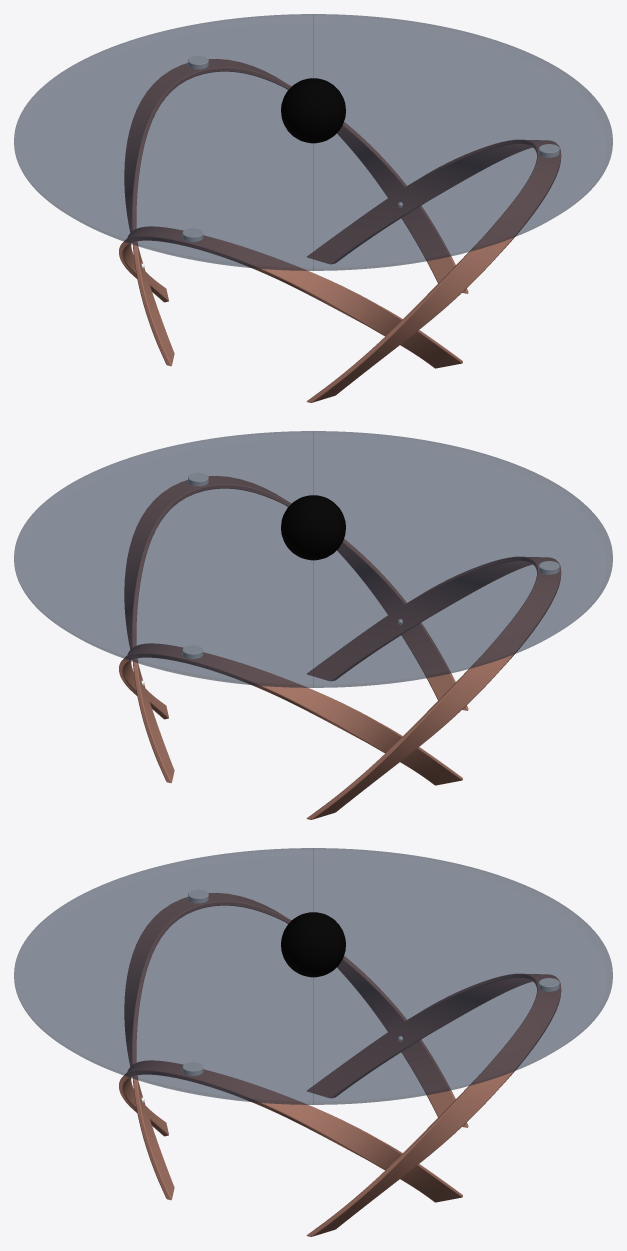
The picture shows the model from 3 angles, top to bottom: view 1: azimuth 30°, elevation 25°; view 2: azimuth 150°, elevation 25°; view 3: azimuth 270°, elevation 25°; orthographic projection.
Visible parts, largest first — view 1: Glass Tabletop, Leg_0 (×3), Sphere; view 2: Glass Tabletop, Leg_0 (×3), Sphere; view 3: Glass Tabletop, Leg_0 (×3), Sphere.
Part boxes in pixels (left/top/right/bottom): Glass Tabletop: left=14, top=14, right=612, bottom=270; Leg_0 (×3): left=119, top=59, right=561, bottom=402; Sphere: left=281, top=78, right=345, bottom=143; Glass Tabletop: left=14, top=431, right=612, bottom=687; Leg_0 (×3): left=119, top=476, right=561, bottom=819; Sphere: left=281, top=495, right=345, bottom=560; Glass Tabletop: left=14, top=848, right=612, bottom=1104; Leg_0 (×3): left=119, top=893, right=561, bottom=1236; Sphere: left=281, top=912, right=345, bottom=977.
Size of the model in its own units: 1 by 0.455 by 1.
